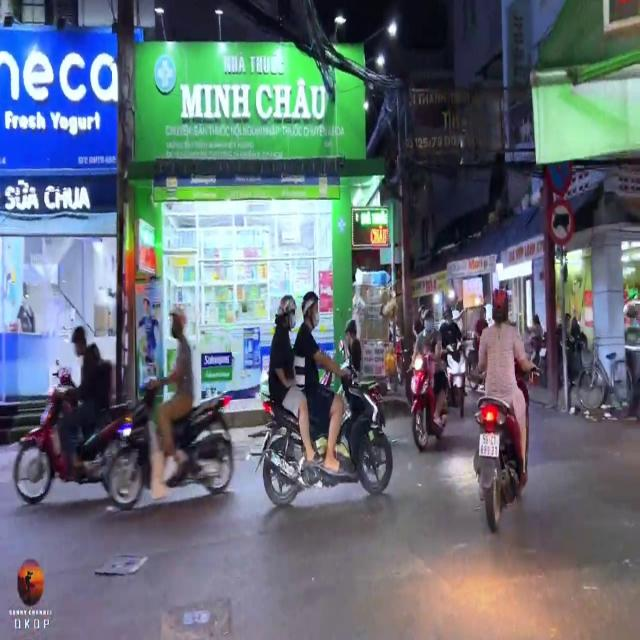bien_trang: (477, 432, 501, 461)
